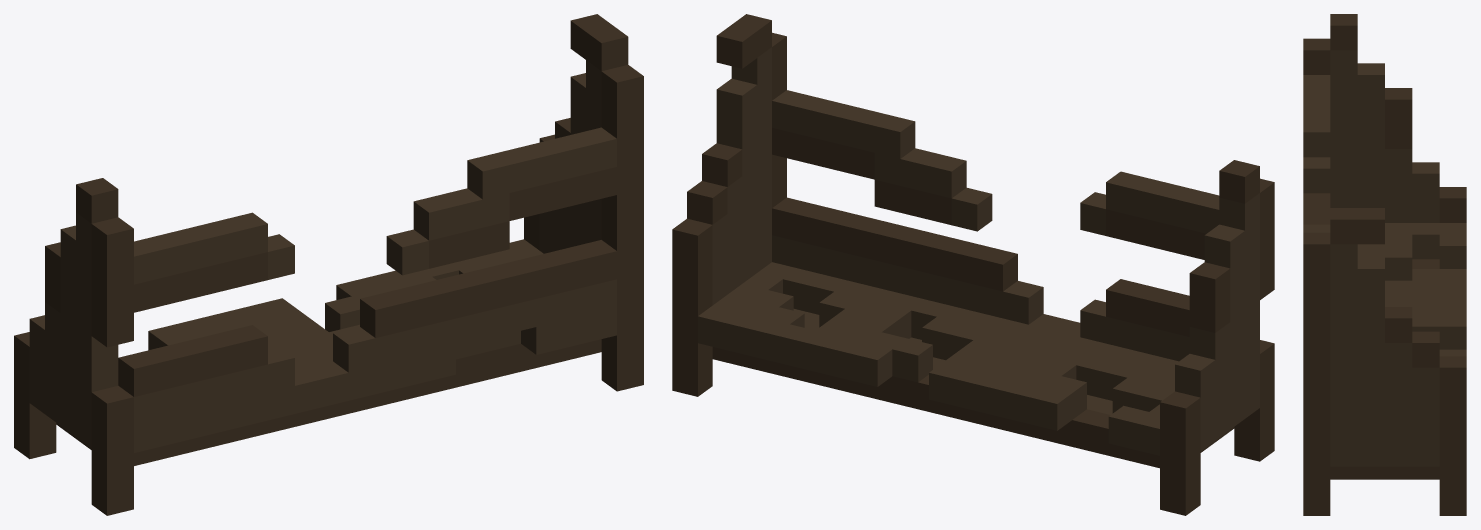
Rendered from church-25-ch_benchbroken2.obj.
The picture shows the model from 3 angles, left to right: view 1: azimuth 30°, elevation 25°; view 2: azimuth 150°, elevation 25°; view 3: azimuth 270°, elevation 25°; orthographic projection. The views are drawn at different scales.
Parts seen in each view (by area): view 1: ch_benchbroken2; view 2: ch_benchbroken2; view 3: ch_benchbroken2.
Boxes of the visible parts, x1,y1,x2,y2 form: ch_benchbroken2: (14,14,643,515); ch_benchbroken2: (672,14,1274,515); ch_benchbroken2: (1303,14,1466,515).
Bounding box in the file's own units: 2 × 1.2 × 0.6.
1 material, 1 textured.
